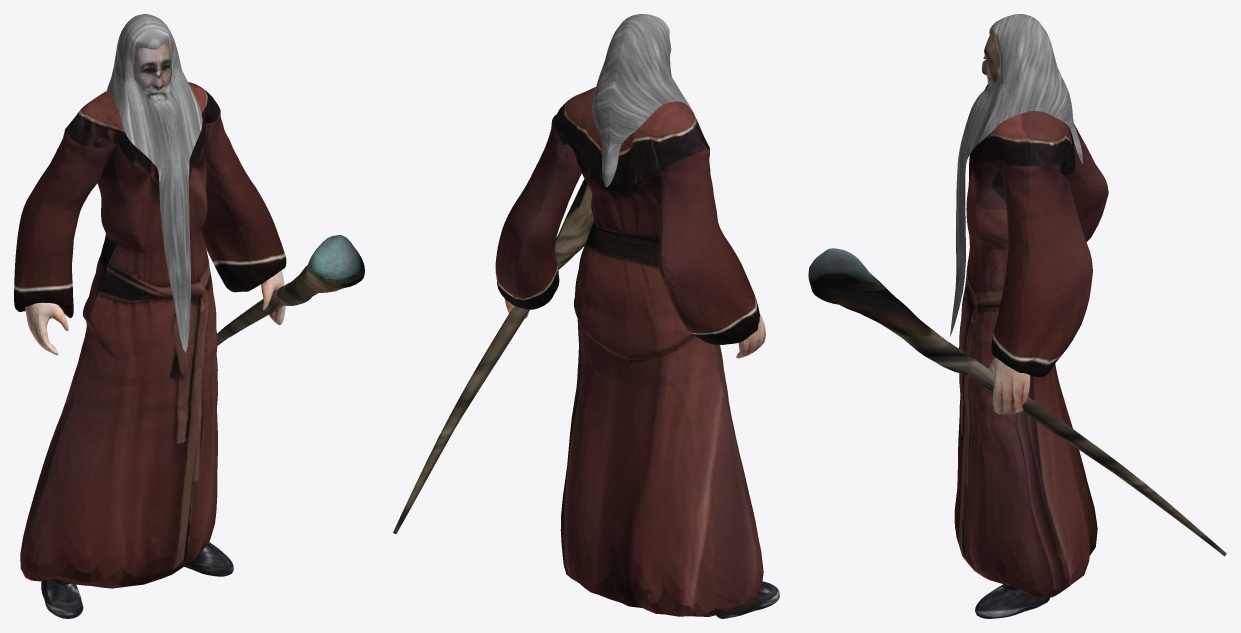
Rendered from Wizard.fbx.
3 views of the same model, side by side, from view 1: azimuth 30°, elevation 25°; view 2: azimuth 150°, elevation 25°; view 3: azimuth 270°, elevation 25° (orthographic). The views are drawn at different scales.
Parts seen in each view (by area): view 1: Wizard.002; view 2: Wizard.002; view 3: Wizard.002.
Part boxes in pixels (left/top/right/bottom): Wizard.002: left=14, top=14, right=364, bottom=618; Wizard.002: left=393, top=14, right=779, bottom=618; Wizard.002: left=808, top=14, right=1226, bottom=618.
Size of the model in its own units: 172 by 352 by 234.
Materials: 2 (2 with a texture image).
